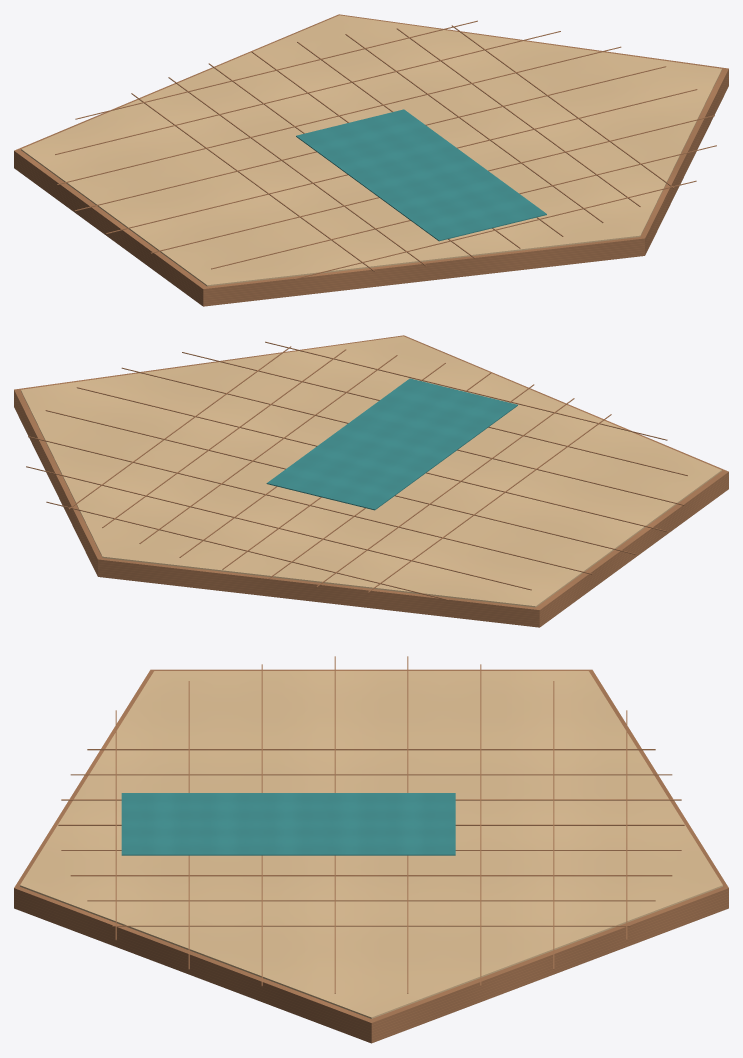
File: atlas100-s092-a07.lod1.glb
3 views of the same model, one above another, from view 1: azimuth 30°, elevation 25°; view 2: azimuth 150°, elevation 25°; view 3: azimuth 270°, elevation 25° (orthographic). The views are drawn at different scales.
Visible parts, largest first — view 1: atlas100-s092-a07:part-001, atlas100-s092-a07:part-000, atlas100-s092-a07:part-021, atlas100-s092-a07:part-015, atlas100-s092-a07:part-014, atlas100-s092-a07:part-016, atlas100-s092-a07:part-017, atlas100-s092-a07:part-018, atlas100-s092-a07:part-020, atlas100-s092-a07:part-013, atlas100-s092-a07:part-019, atlas100-s092-a07:part-005 (+3 smaller); view 2: atlas100-s092-a07:part-001, atlas100-s092-a07:part-000, atlas100-s092-a07:part-021, atlas100-s092-a07:part-015, atlas100-s092-a07:part-014, atlas100-s092-a07:part-017, atlas100-s092-a07:part-016, atlas100-s092-a07:part-018, atlas100-s092-a07:part-013, atlas100-s092-a07:part-020, atlas100-s092-a07:part-019, atlas100-s092-a07:part-005 (+3 smaller); view 3: atlas100-s092-a07:part-001, atlas100-s092-a07:part-021, atlas100-s092-a07:part-000, atlas100-s092-a07:part-005, atlas100-s092-a07:part-009, atlas100-s092-a07:part-004, atlas100-s092-a07:part-010, atlas100-s092-a07:part-011, atlas100-s092-a07:part-015.
Part boxes in pixels (x1,y1,x2,y2): atlas100-s092-a07:part-001: [21, 15, 721, 286]; atlas100-s092-a07:part-000: [14, 14, 728, 306]; atlas100-s092-a07:part-021: [296, 109, 546, 241]; atlas100-s092-a07:part-015: [57, 46, 621, 184]; atlas100-s092-a07:part-014: [55, 31, 560, 154]; atlas100-s092-a07:part-016: [74, 66, 666, 211]; atlas100-s092-a07:part-017: [106, 89, 697, 233]; atlas100-s092-a07:part-018: [150, 115, 714, 253]; atlas100-s092-a07:part-020: [294, 180, 696, 279]; atlas100-s092-a07:part-013: [75, 20, 477, 119]; atlas100-s092-a07:part-019: [211, 145, 716, 269]; atlas100-s092-a07:part-005: [168, 77, 426, 266]; atlas100-s092-a07:part-001: [21, 336, 721, 607]; atlas100-s092-a07:part-000: [14, 335, 728, 627]; atlas100-s092-a07:part-021: [266, 378, 517, 510]; atlas100-s092-a07:part-015: [28, 436, 592, 574]; atlas100-s092-a07:part-014: [26, 466, 531, 590]; atlas100-s092-a07:part-017: [76, 387, 668, 532]; atlas100-s092-a07:part-016: [45, 410, 636, 554]; atlas100-s092-a07:part-018: [121, 367, 685, 505]; atlas100-s092-a07:part-013: [46, 501, 448, 600]; atlas100-s092-a07:part-020: [265, 341, 667, 440]; atlas100-s092-a07:part-019: [182, 352, 687, 475]; atlas100-s092-a07:part-005: [316, 398, 574, 587]; atlas100-s092-a07:part-001: [20, 671, 722, 1018]; atlas100-s092-a07:part-021: [121, 793, 455, 855]; atlas100-s092-a07:part-000: [14, 669, 728, 1043]; atlas100-s092-a07:part-005: [70, 774, 672, 775]; atlas100-s092-a07:part-009: [70, 875, 672, 876]; atlas100-s092-a07:part-004: [87, 749, 655, 750]; atlas100-s092-a07:part-010: [87, 900, 655, 901]; atlas100-s092-a07:part-011: [112, 925, 630, 926]; atlas100-s092-a07:part-015: [480, 664, 481, 986].
Bounding box in the file's own units: 12.99 × 0.404 × 10.78.
Materials: 3 (3 with a texture image).
